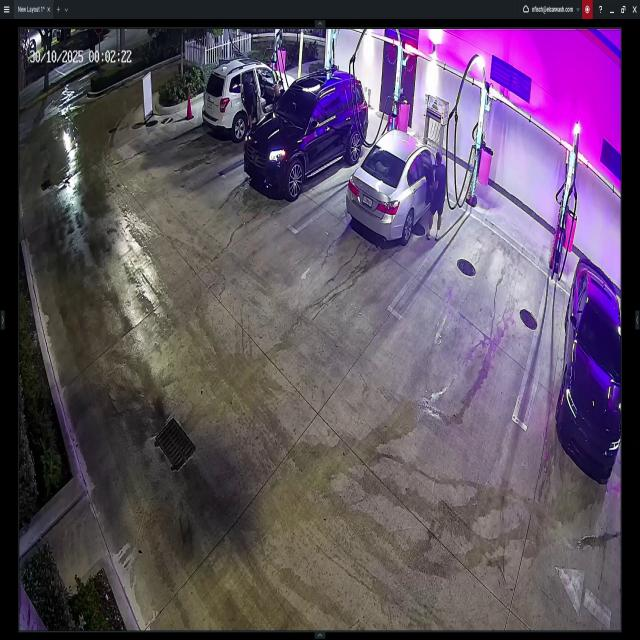Car: (556, 255, 626, 485), (249, 68, 368, 196), (344, 125, 441, 242), (198, 55, 302, 136)
